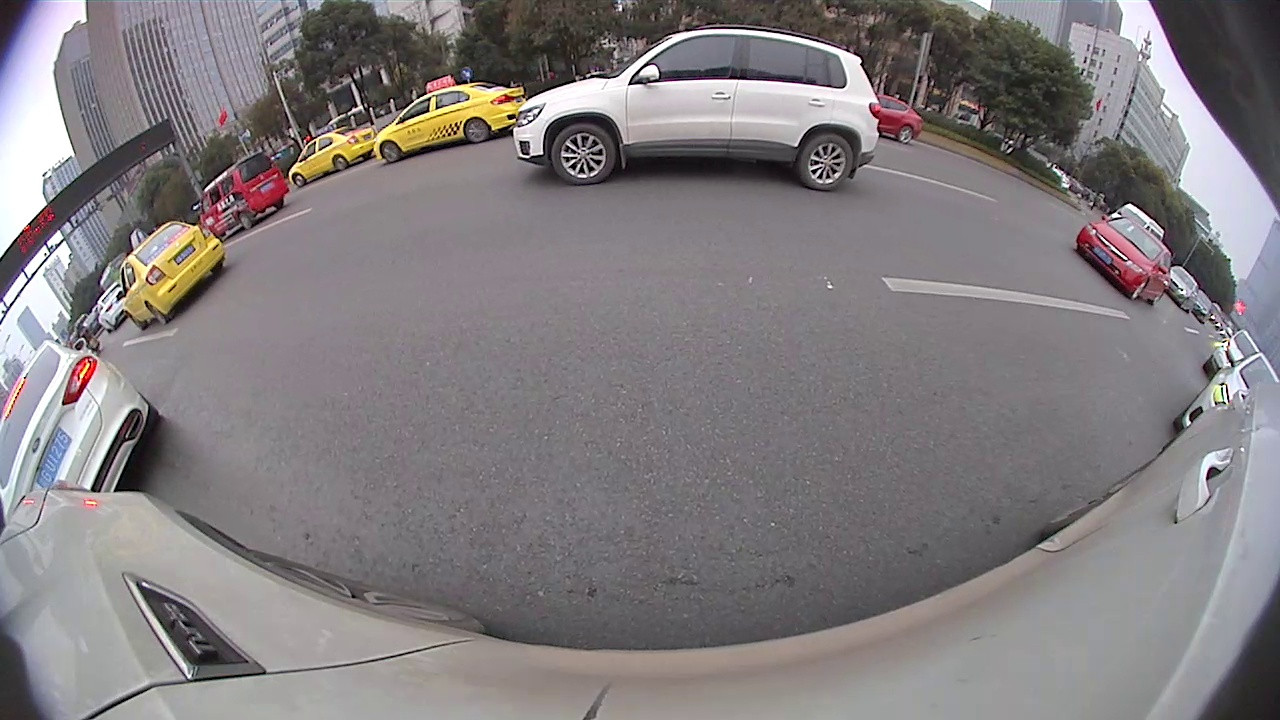car: (517, 27, 877, 189), (1, 343, 166, 529), (378, 77, 523, 163), (121, 224, 228, 329), (1075, 215, 1170, 306), (1178, 353, 1277, 436), (196, 152, 287, 240), (290, 128, 377, 188), (871, 99, 922, 142)
front: (550, 124, 619, 186), (1131, 276, 1151, 300), (381, 142, 400, 164), (294, 173, 306, 187)
rear: (799, 132, 857, 190), (463, 116, 491, 144), (896, 124, 913, 146), (236, 211, 253, 231), (332, 156, 350, 171)
